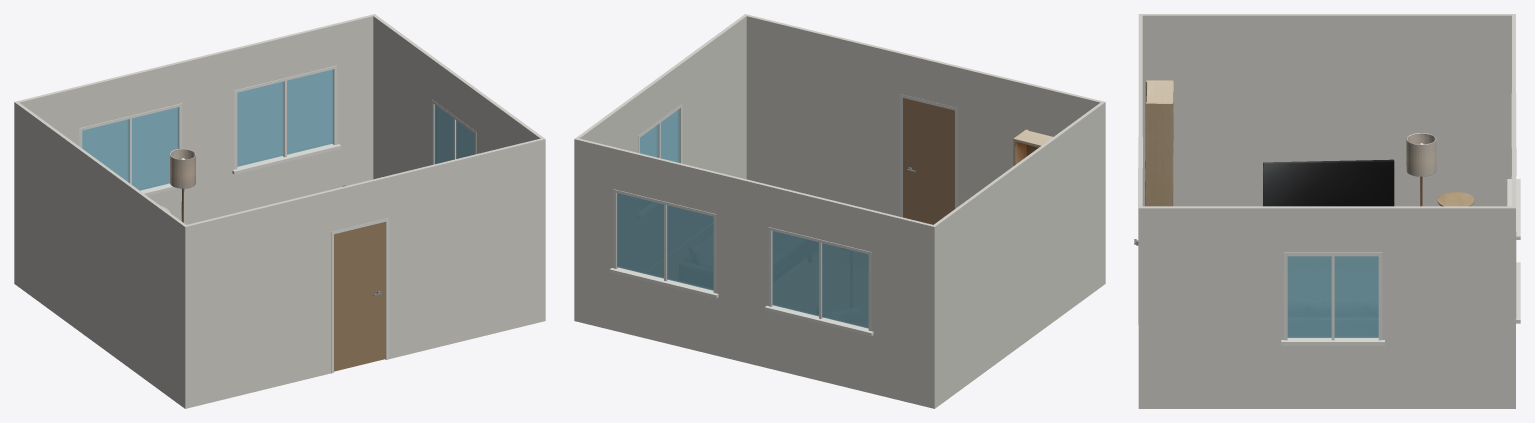
The model's file is scenesmith.glb.
The picture shows the model from 3 angles, left to right: view 1: azimuth 30°, elevation 25°; view 2: azimuth 150°, elevation 25°; view 3: azimuth 270°, elevation 25°; orthographic projection. The views are drawn at different scales.
Parts seen in each view (by area): view 1: scene_007_living_room_south_wall, scene_007_living_room_west_wall, scene_007_living_room_north_wall, scene_007_living_room_east_wall, scene_007_living_room_north_wall Window 0 | glazing, scene_007_living_room_south_wall Door 0 | wood leaf, scene_007_living_room_north_wall Window 0 | jamb, scene_007_living_room_east_wall Window 0 | glazing, furniture_group, scene_007_living_room_south_wall Door 0 | jamb, scene_007_living_room_east_wall Window 0 | jamb; view 2: scene_007_living_room_north_wall, scene_007_living_room_south_wall, scene_007_living_room_west_wall, scene_007_living_room_north_wall Window 0 | glazing, scene_007_living_room_east_wall, scene_007_living_room_south_wall Door 0 | wood leaf, scene_007_living_room_north_wall Window 0 | jamb, scene_007_living_room_east_wall Window 0 | glazing, scene_007_living_room_south_wall Door 0 | jamb, furniture_group, scene_007_living_room_east_wall Window 0 | jamb; view 3: scene_007_living_room_east_wall, scene_007_living_room_west_wall, furniture_group, scene_007_living_room_east_wall Window 0 | glazing, scene_007_living_room_east_wall Window 0 | jamb, scene_007_living_room_south_wall, scene_007_living_room_north_wall, scene_007_living_room_north_wall Window 0 | jamb.
Boxes of the visible parts, x1=… form: scene_007_living_room_south_wall: x1=183, y1=138, x2=545, y2=408; scene_007_living_room_west_wall: x1=16, y1=102, x2=185, y2=408; scene_007_living_room_north_wall: x1=14, y1=14, x2=375, y2=284; scene_007_living_room_east_wall: x1=373, y1=15, x2=545, y2=321; scene_007_living_room_north_wall Window 0 | glazing: x1=82, y1=69, x2=333, y2=190; scene_007_living_room_south_wall Door 0 | wood leaf: x1=334, y1=221, x2=385, y2=371; scene_007_living_room_north_wall Window 0 | jamb: x1=79, y1=65, x2=341, y2=195; scene_007_living_room_east_wall Window 0 | glazing: x1=434, y1=105, x2=474, y2=164; furniture_group: x1=160, y1=148, x2=345, y2=222; scene_007_living_room_south_wall Door 0 | jamb: x1=331, y1=218, x2=388, y2=373; scene_007_living_room_east_wall Window 0 | jamb: x1=432, y1=99, x2=476, y2=164; scene_007_living_room_north_wall: x1=574, y1=138, x2=936, y2=408; scene_007_living_room_south_wall: x1=744, y1=14, x2=1104, y2=216; scene_007_living_room_west_wall: x1=934, y1=102, x2=1105, y2=406; scene_007_living_room_north_wall Window 0 | glazing: x1=617, y1=193, x2=868, y2=328; scene_007_living_room_east_wall: x1=574, y1=15, x2=746, y2=321; scene_007_living_room_south_wall Door 0 | wood leaf: x1=903, y1=98, x2=954, y2=224; scene_007_living_room_north_wall Window 0 | jamb: x1=609, y1=189, x2=873, y2=336; scene_007_living_room_east_wall Window 0 | glazing: x1=640, y1=109, x2=679, y2=162; scene_007_living_room_south_wall Door 0 | jamb: x1=900, y1=94, x2=957, y2=217; furniture_group: x1=1013, y1=129, x2=1052, y2=165; scene_007_living_room_east_wall Window 0 | jamb: x1=638, y1=103, x2=682, y2=163; scene_007_living_room_east_wall: x1=1142, y1=206, x2=1511, y2=408; scene_007_living_room_west_wall: x1=1142, y1=14, x2=1511, y2=206; furniture_group: x1=1145, y1=80, x2=1474, y2=206; scene_007_living_room_east_wall Window 0 | glazing: x1=1287, y1=256, x2=1378, y2=337; scene_007_living_room_east_wall Window 0 | jamb: x1=1281, y1=252, x2=1384, y2=345; scene_007_living_room_south_wall: x1=1138, y1=14, x2=1142, y2=408; scene_007_living_room_north_wall: x1=1512, y1=14, x2=1515, y2=408; scene_007_living_room_north_wall Window 0 | jamb: x1=1507, y1=93, x2=1520, y2=323.
Bounding box in the file's own units: 5.65 × 2.71 × 4.7.
Materials: 13 (7 with a texture image).
